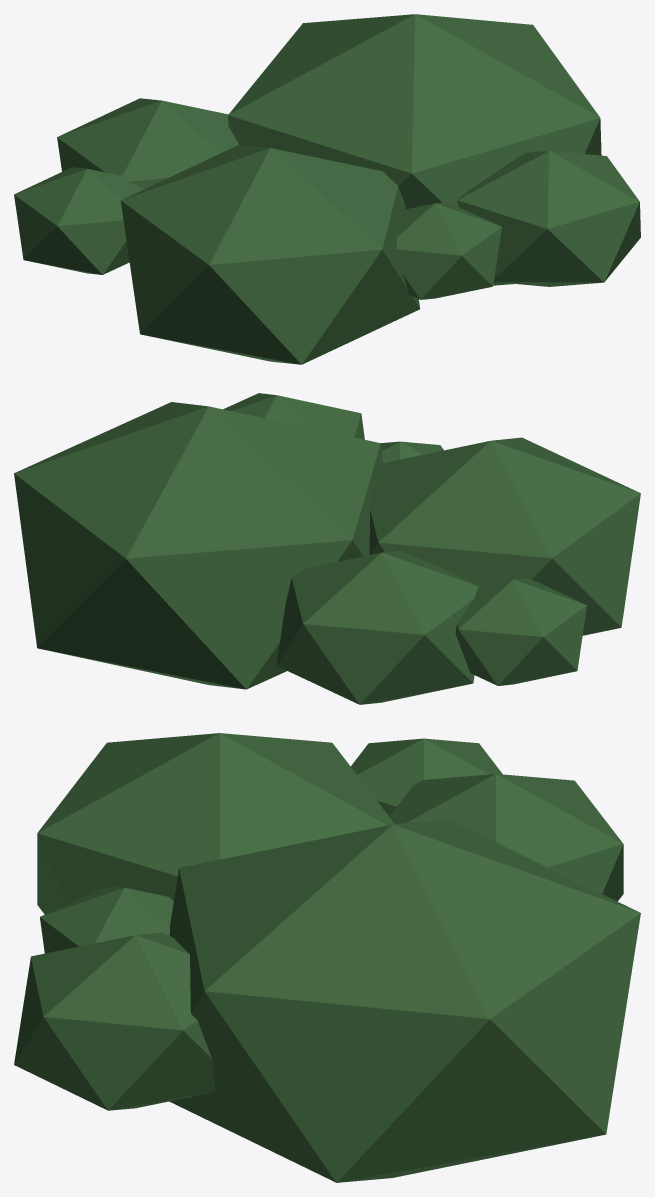
File: Bushes.fbx
3 views of the same model, one above another, from view 1: azimuth 30°, elevation 25°; view 2: azimuth 150°, elevation 25°; view 3: azimuth 270°, elevation 25° (orthographic). The views are drawn at different scales.
Parts seen in each view (by area): view 1: Bushes; view 2: Bushes; view 3: Bushes.
Part boxes in pixels (left/top/right/bottom): Bushes: left=14, top=14, right=640, bottom=364; Bushes: left=14, top=393, right=640, bottom=704; Bushes: left=14, top=733, right=640, bottom=1182.
Size of the model in its own units: 129 by 63.06 by 101.
